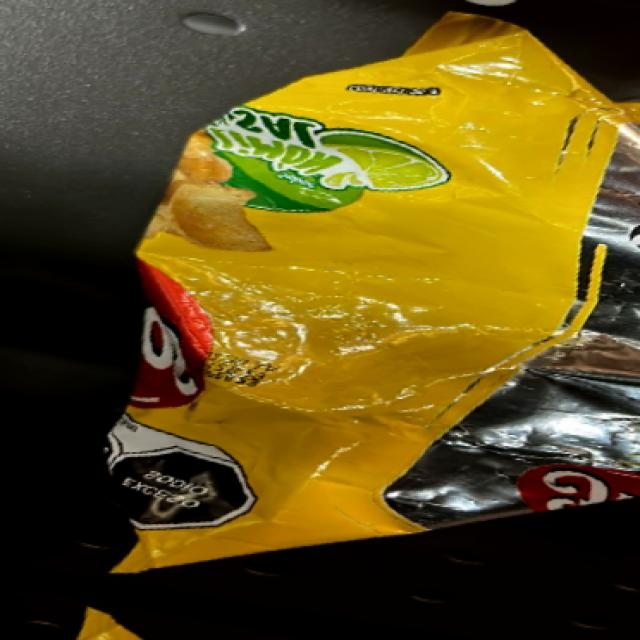fritosLimon: (136, 83, 418, 549)
